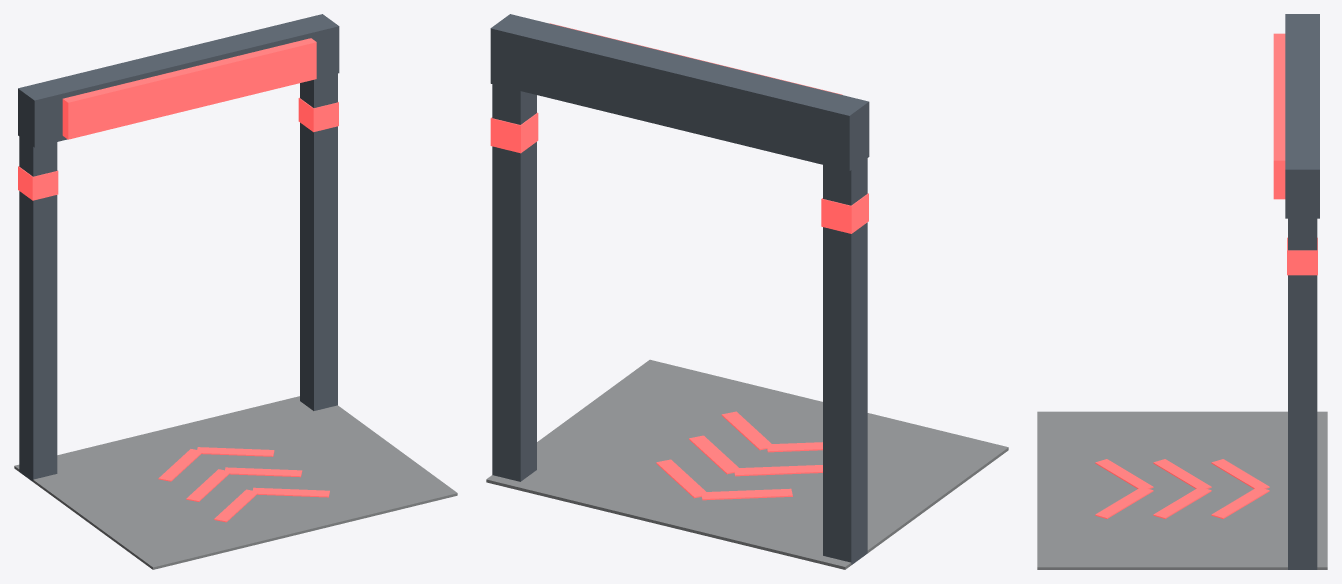
The model's file is SinkStation.fbx.
3 renders of one model, left to right at view 1: azimuth 30°, elevation 25°; view 2: azimuth 150°, elevation 25°; view 3: azimuth 270°, elevation 25°, orthographic. The views are drawn at different scales.
Visible parts, largest first — view 1: SinkStation; view 2: SinkStation; view 3: SinkStation.
Part boxes in pixels (x1,y1,x2,y2): SinkStation: (14,14,457,569); SinkStation: (486,14,1008,569); SinkStation: (1037,14,1327,569).
Bounding box in the file's own units: 1.91 × 2.28 × 1.5.
